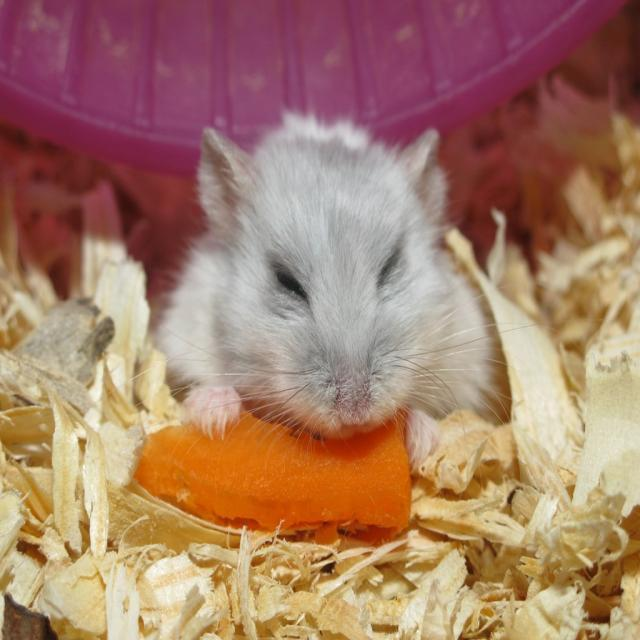rat: (104, 109, 532, 472)
